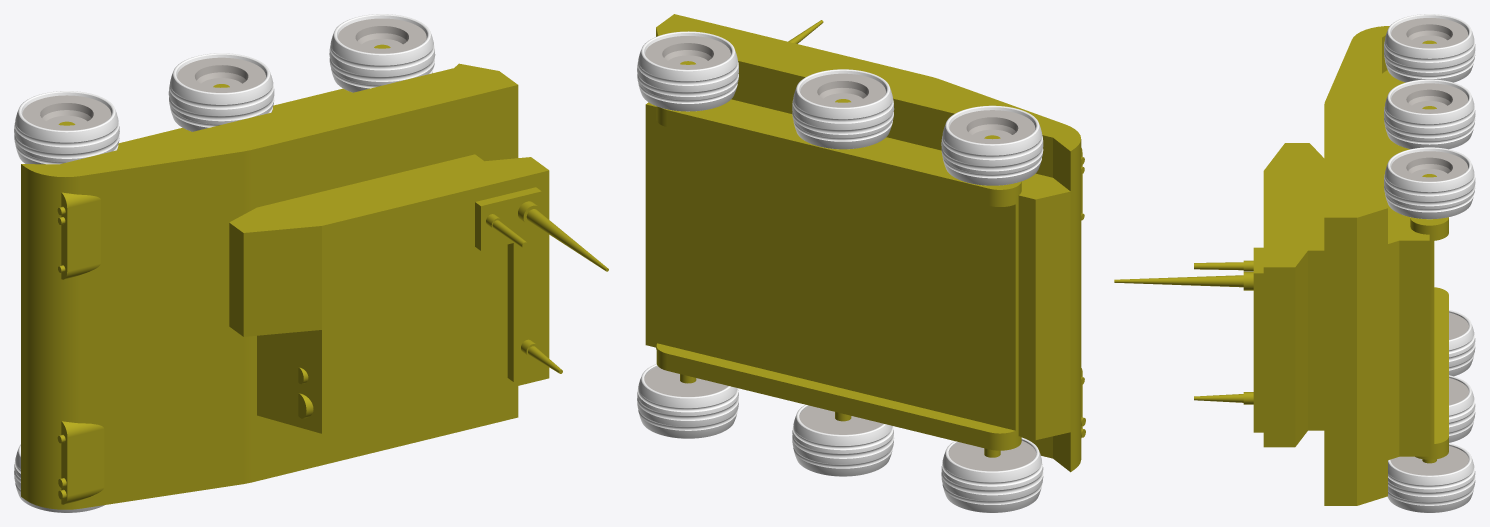
The model's file is UGV v0.fbx.
3 views of the same model, side by side, from view 1: azimuth 30°, elevation 25°; view 2: azimuth 150°, elevation 25°; view 3: azimuth 270°, elevation 25° (orthographic). The views are drawn at different scales.
Visible parts, largest first — view 1: Body1 (×5); view 2: Body1 (×7); view 3: Body1 (×8).
Boxes of the visible parts, x1,y1,x2,y2 form: Body1 (×5): (14, 14, 608, 509); Body1 (×7): (637, 14, 1085, 512); Body1 (×8): (1114, 14, 1475, 512).
Bounding box in the file's own units: 11.43 × 9.18 × 9.08.
